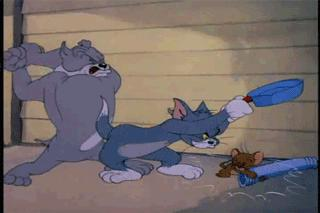tom: (92, 94, 255, 183)
